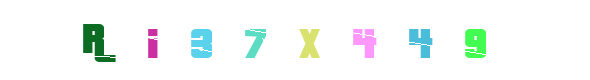3: (214, 0, 294, 80)
4: (269, 0, 349, 80), (311, 0, 391, 80)
7: (256, 0, 336, 80)
9: (433, 0, 513, 80)
I: (112, 0, 192, 80)
R: (55, 0, 135, 80)
X: (259, 0, 339, 80)
